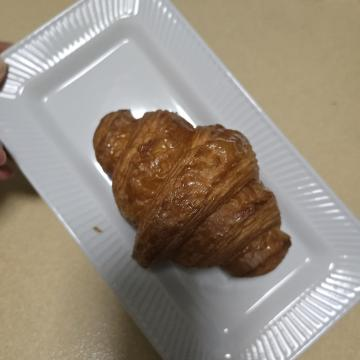croissant: (102, 56, 292, 278)
